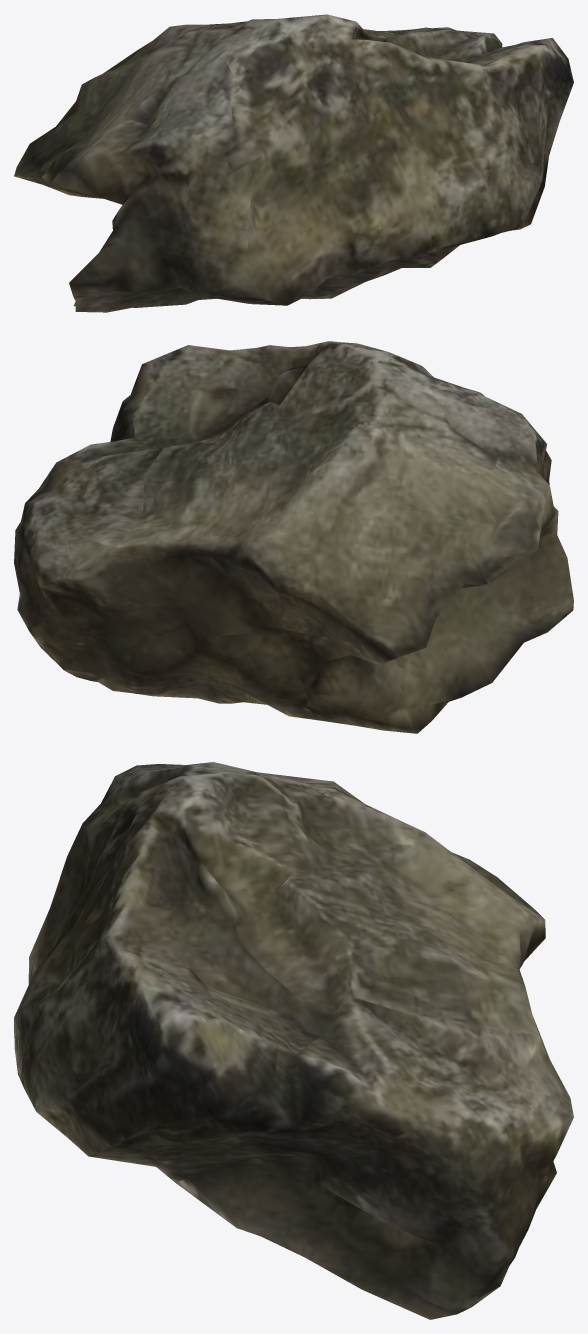
Rendered from mossrock_s2.gltf.
3 renders of one model, top to bottom at view 1: azimuth 30°, elevation 25°; view 2: azimuth 150°, elevation 25°; view 3: azimuth 270°, elevation 25°, orthographic. The views are drawn at different scales.
Visible parts, largest first — view 1: mossrock_s2; view 2: mossrock_s2; view 3: mossrock_s2.
Part boxes in pixels (left/top/right/bottom): mossrock_s2: left=14, top=14, right=573, bottom=312; mossrock_s2: left=14, top=341, right=573, bottom=733; mossrock_s2: left=14, top=762, right=573, bottom=1319.
Bounding box in the file's own units: 1.95 × 1.3 × 1.53.
1 material, 1 textured.
